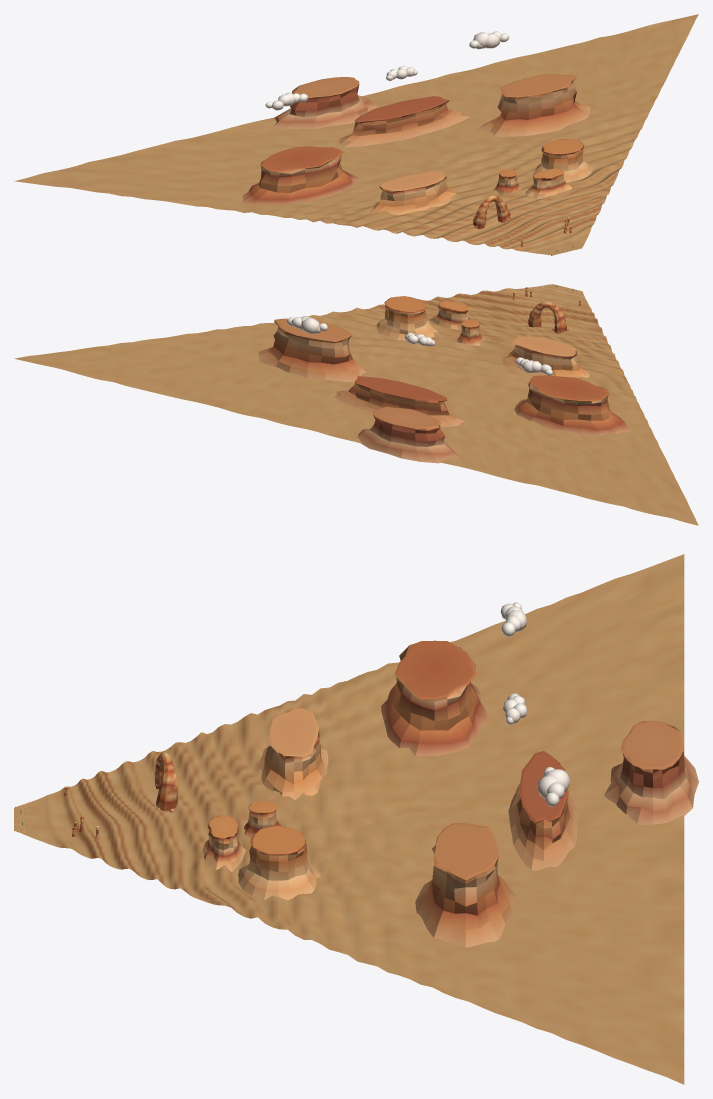
File: backdrop_2.glb
The picture shows the model from 3 angles, top to bottom: view 1: azimuth 30°, elevation 25°; view 2: azimuth 150°, elevation 25°; view 3: azimuth 270°, elevation 25°; orthographic projection. The views are drawn at different scales.
Visible parts, largest first — view 1: mid_dunes, far_mesas, lm_arch, cloud_2, cloud_0; view 2: mid_dunes, far_mesas, lm_arch, cloud_2, cloud_0; view 3: mid_dunes, far_mesas, lm_arch, cloud_2.
Part boxes in pixels (x1,y1,x2,y2): mid_dunes: (14,14,698,253); far_mesas: (241,74,592,215); lm_arch: (473,195,510,229); cloud_2: (469,31,509,49); cloud_0: (265,92,308,110); mid_dunes: (15,286,698,525); far_mesas: (258,296,629,463); lm_arch: (526,301,568,333); cloud_2: (286,316,327,333); cloud_0: (515,357,552,375); mid_dunes: (31,554,684,1084); far_mesas: (202,640,698,947); lm_arch: (154,752,178,812); cloud_2: (537,766,570,806).
Size of the model in its own units: 805 by 85.63 by 439.
